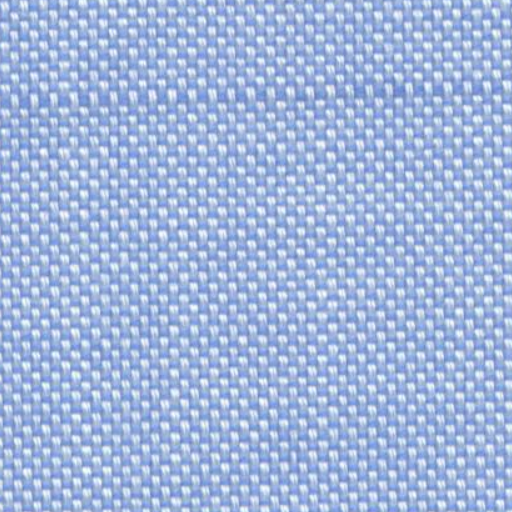TuoSha: (16, 56, 485, 143)
